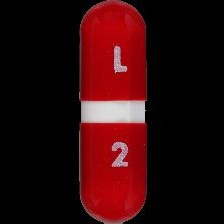0363-0572: (0, 0, 224, 224)
